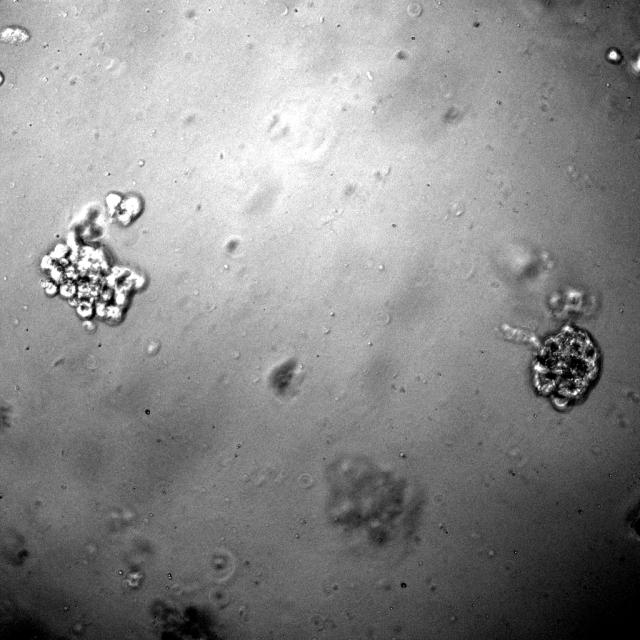organoid: (41, 192, 143, 321), (501, 288, 602, 411), (324, 454, 421, 547), (149, 599, 225, 639), (268, 357, 304, 396), (0, 25, 29, 44), (606, 47, 623, 65), (125, 570, 142, 588), (0, 71, 4, 85)
